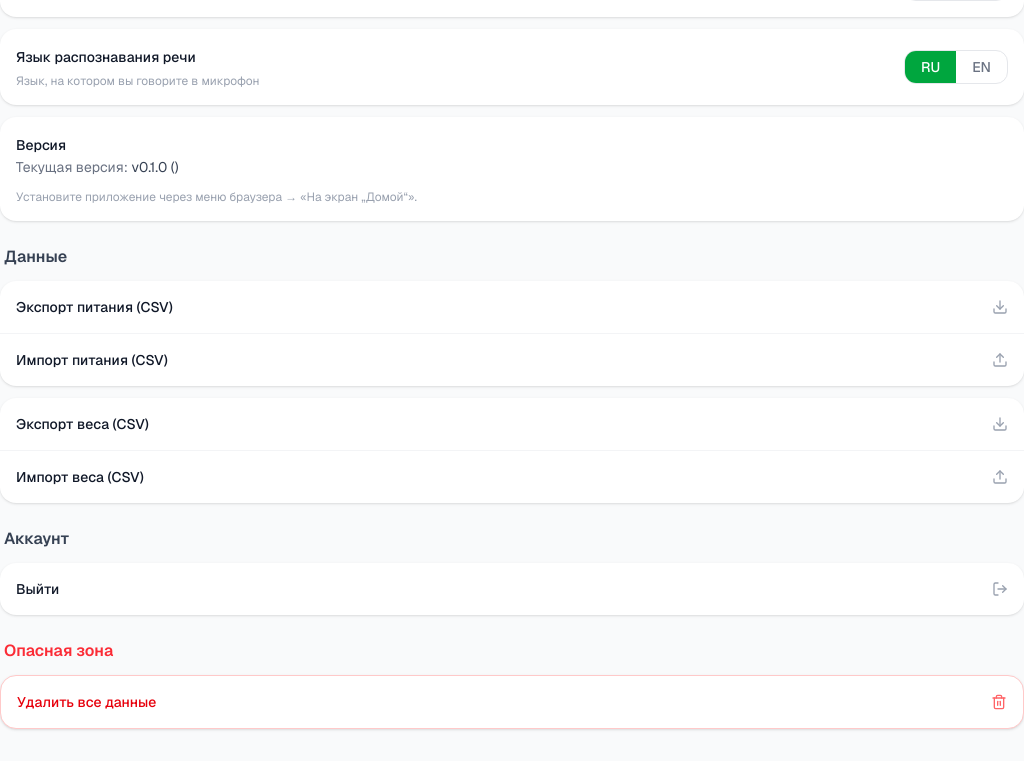
SettingsClient › deleteAll_ShouldShowSuccess_AfterDeletion
(page scrolled)
Step 1. Click the button "Удалить все данные" → x=87, y=702, box left=0, top=675, right=1023, bottom=729
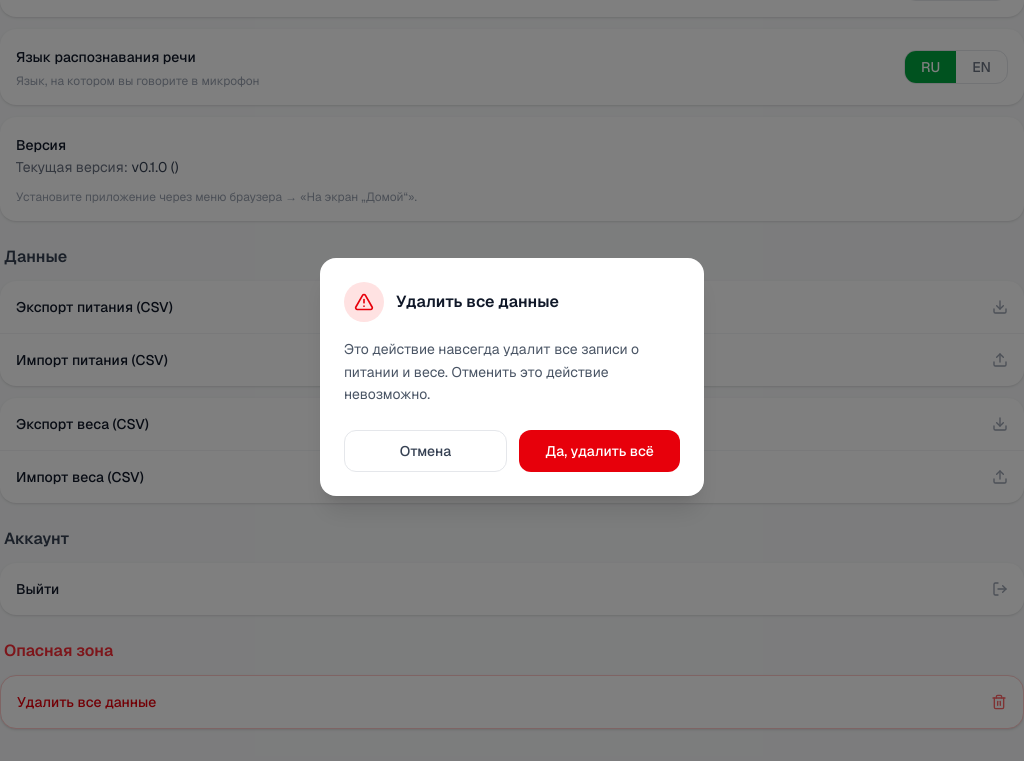
Step 2. Click the button "Да, удалить всё" → x=600, y=451, box left=519, top=430, right=680, bottom=472
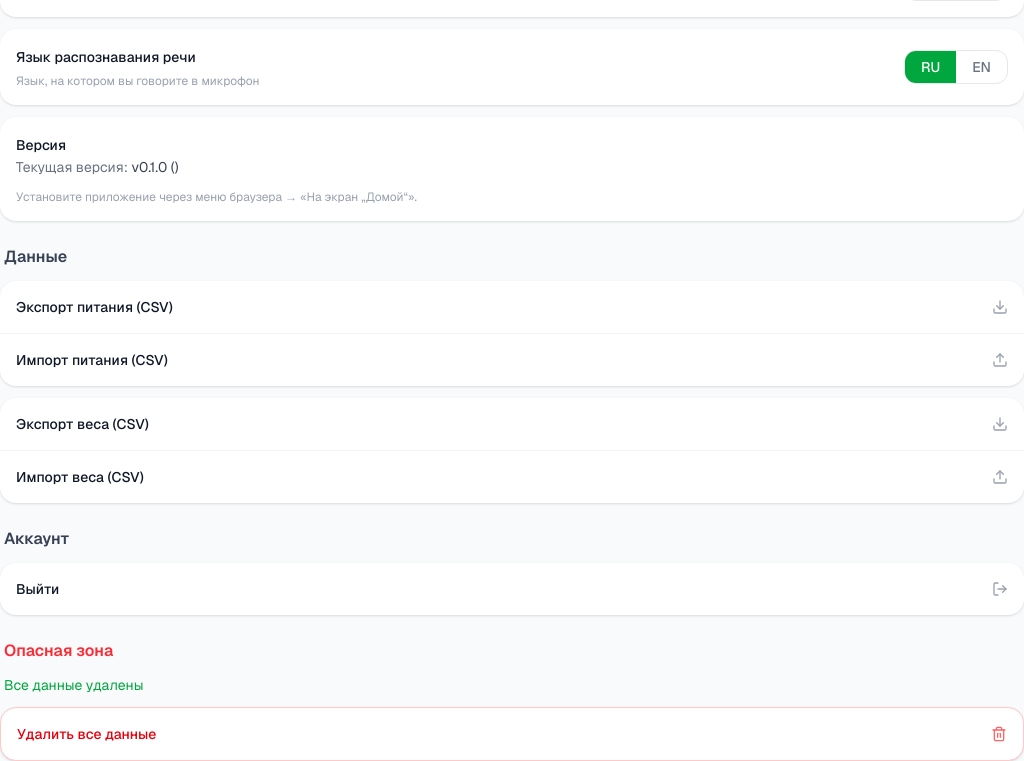
Result: the text "Все данные удалены" is shown at left=4, top=676, right=144, bottom=694
